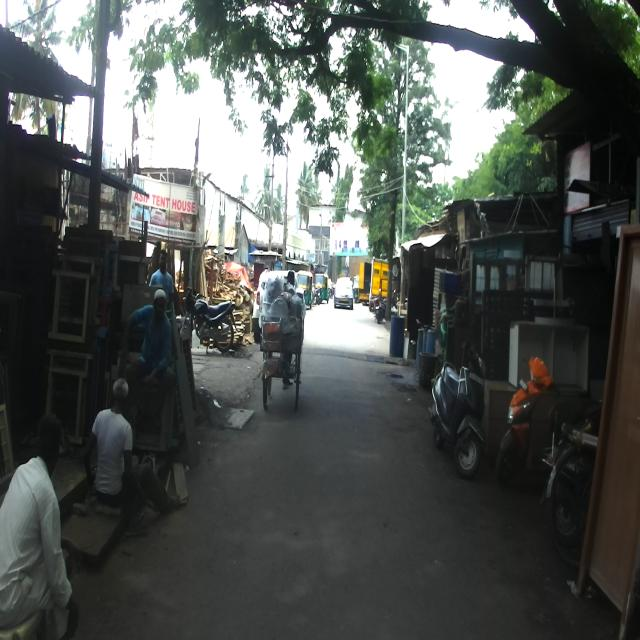motorcycle ahead at: (501, 328, 596, 481), (429, 330, 491, 476), (183, 289, 240, 359)
person ahead at: (0, 411, 77, 640), (91, 378, 178, 516)
